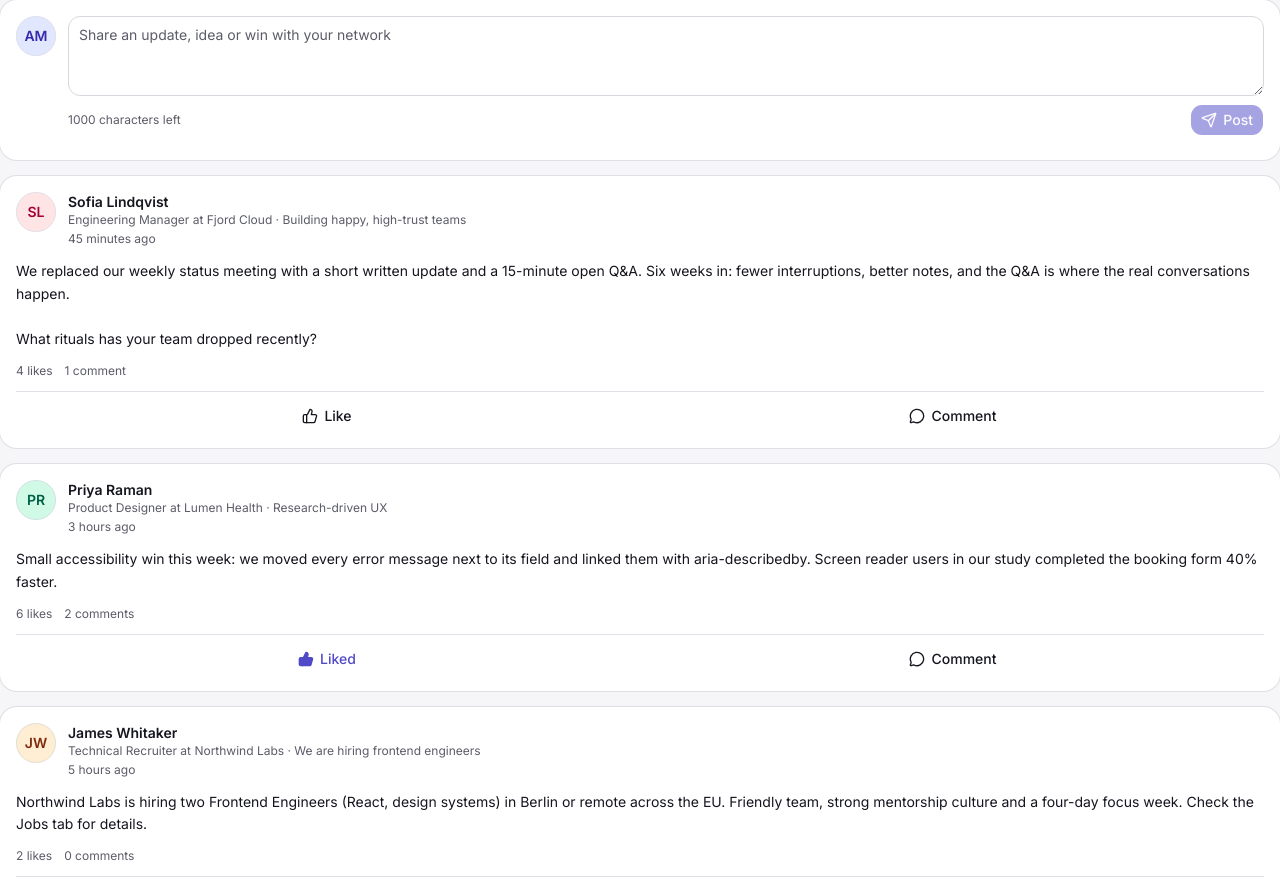
Test case: FeedList › toggles a like and updates the count
The image size is (1280, 886).
Expected: the text "4 likes" is shown, [16,363,53,379]
Click the button "Like". click: (327, 416)
box: [16,400,638,432]
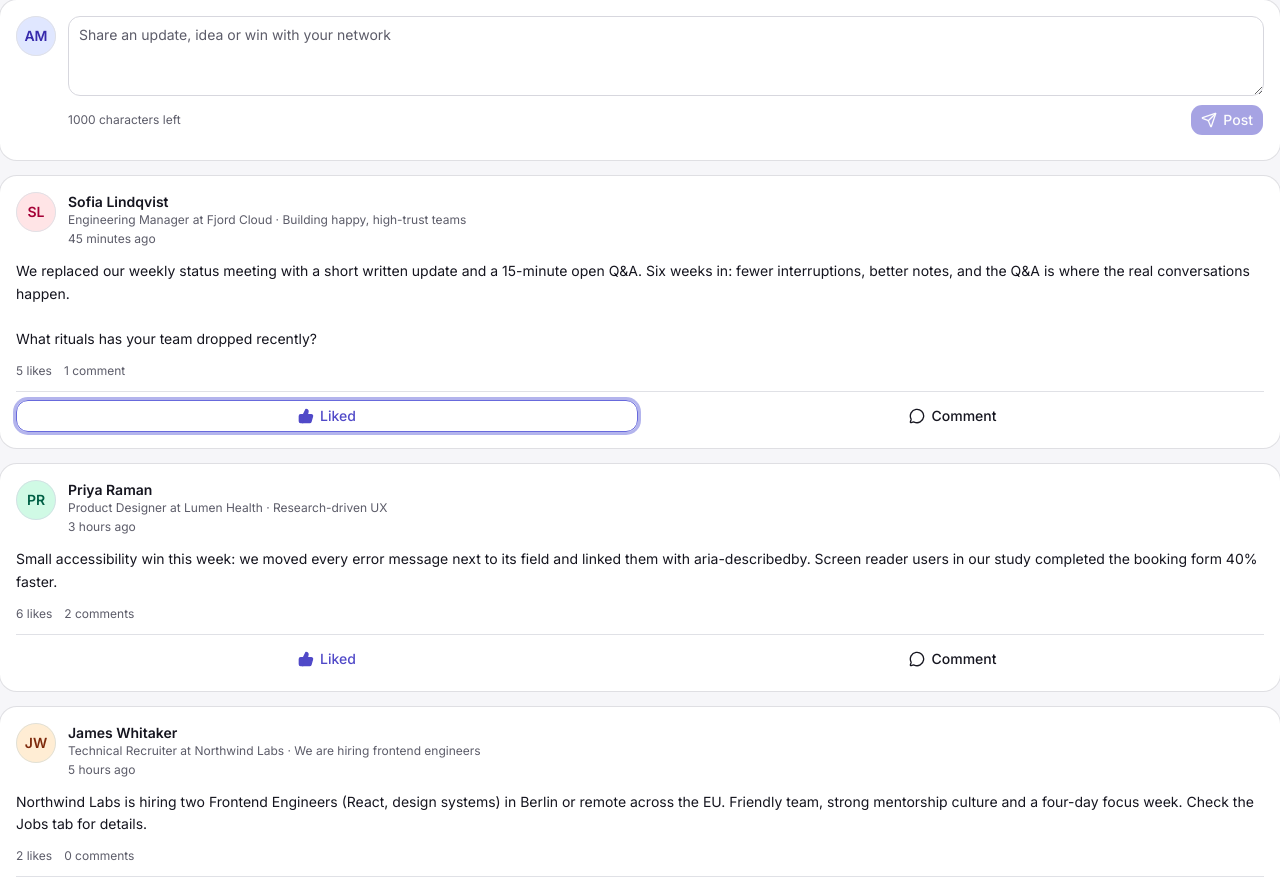
Expected: the text "5 likes" is shown, [16,363,52,379]
